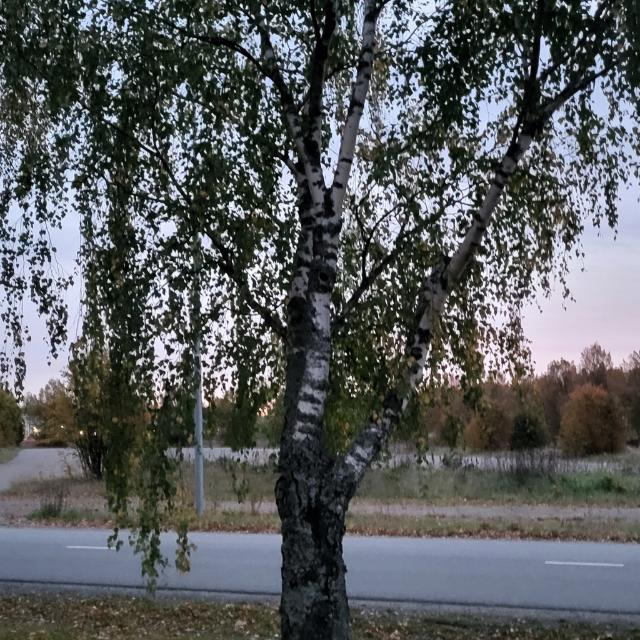birch: (252, 5, 446, 640)
